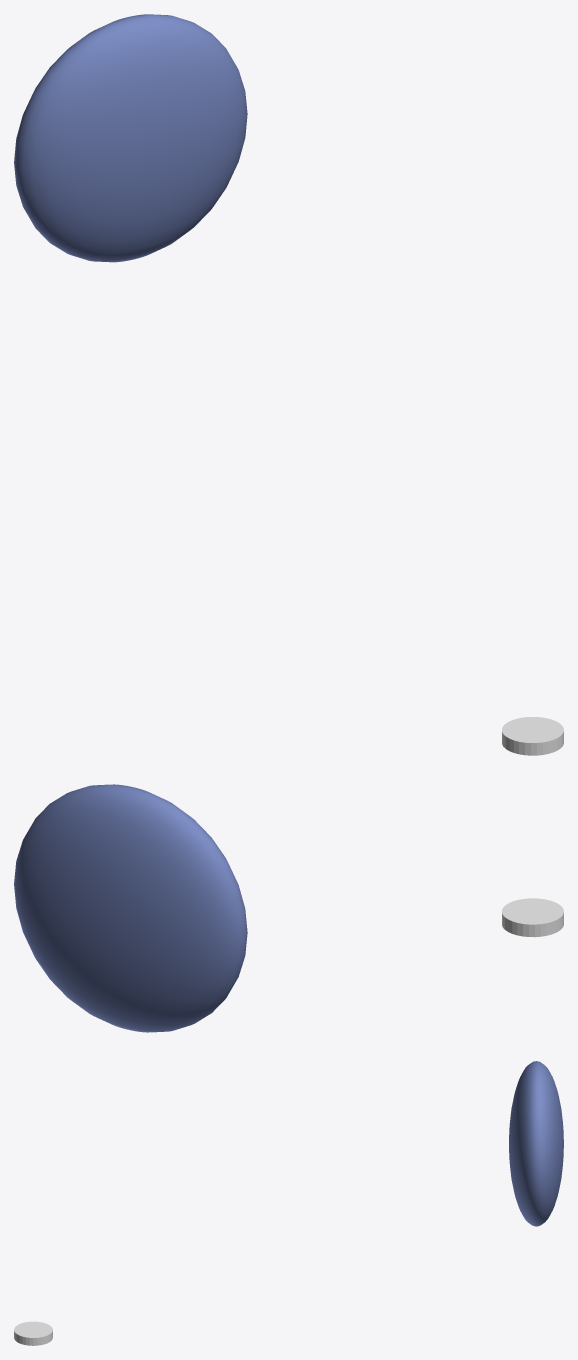
File: counter.glb
3 views of the same model, one above another, from view 1: azimuth 30°, elevation 25°; view 2: azimuth 150°, elevation 25°; view 3: azimuth 270°, elevation 25° (orthographic). The views are drawn at different scales.
Parts seen in each view (by area): view 1: Sphere, Center; view 2: Sphere, Center; view 3: Sphere, Center.
Part boxes in pixels (x1,y1,x2,y2): Sphere: (14, 14, 247, 262); Center: (502, 717, 563, 755); Sphere: (14, 784, 247, 1032); Center: (502, 898, 563, 937); Sphere: (509, 1061, 563, 1226); Center: (14, 1321, 52, 1345).
Size of the model in its own units: 1.26 by 2.25 by 4.18.
